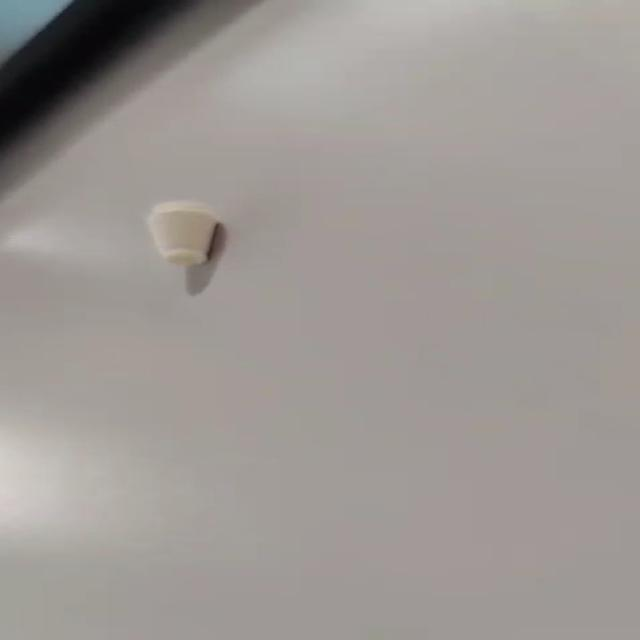Z1x1x1: (145, 201, 222, 266)
